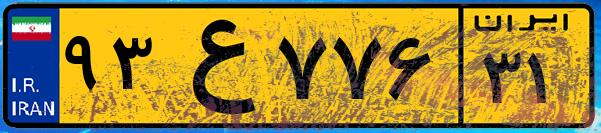1: (525, 38, 570, 115)
3: (475, 38, 525, 113), (110, 28, 158, 98)
6: (385, 28, 445, 110)
7: (270, 28, 330, 110), (330, 28, 385, 110)
9: (57, 26, 110, 100)
ع: (158, 12, 270, 120)
